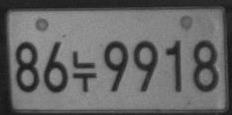1: (163, 39, 189, 92)
6: (42, 41, 68, 93)
8: (192, 39, 219, 91), (15, 40, 39, 93)
9: (103, 39, 129, 91), (132, 39, 158, 91)
누: (71, 51, 97, 93)
